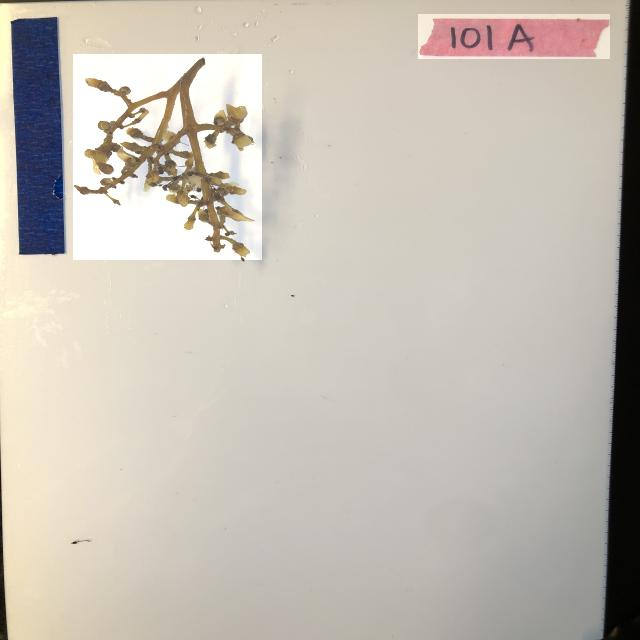index: (418, 14, 610, 59)
measure_label: (10, 16, 67, 255)
rachis_cluster: (73, 54, 262, 260)
